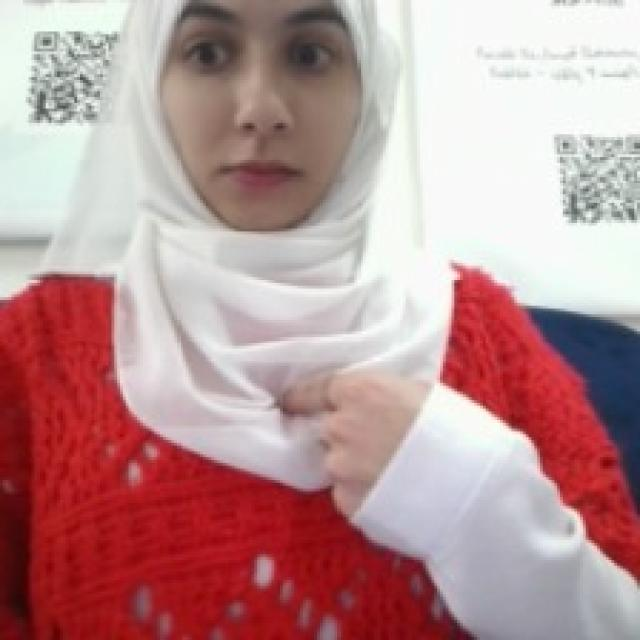me: (272, 360, 439, 526)
